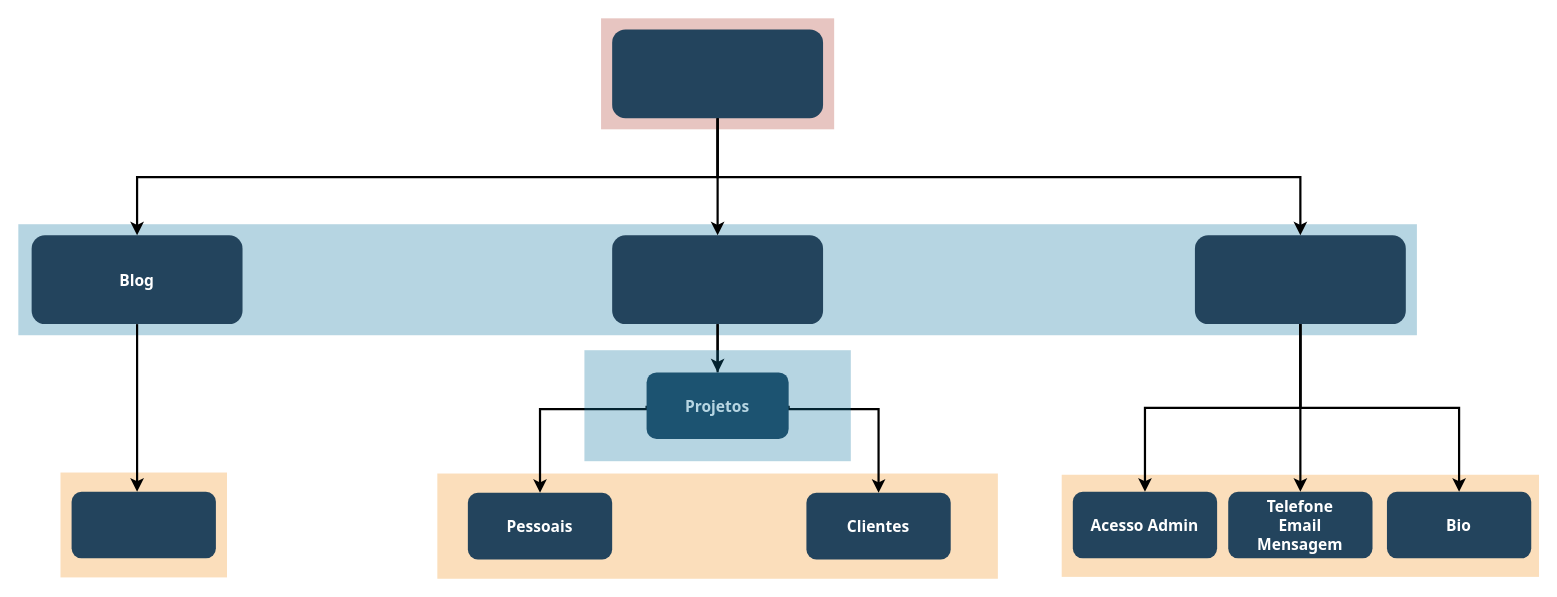
The diagram is 1557 pixels wide and 597 high, and some of its shapes have lost their labels. Each missing label, with the centre of its shape:
Contato: pixel 1299 279
Portfóliio: pixel 717 279
Post: pixel 143 524
Página Principal: pixel 717 73
